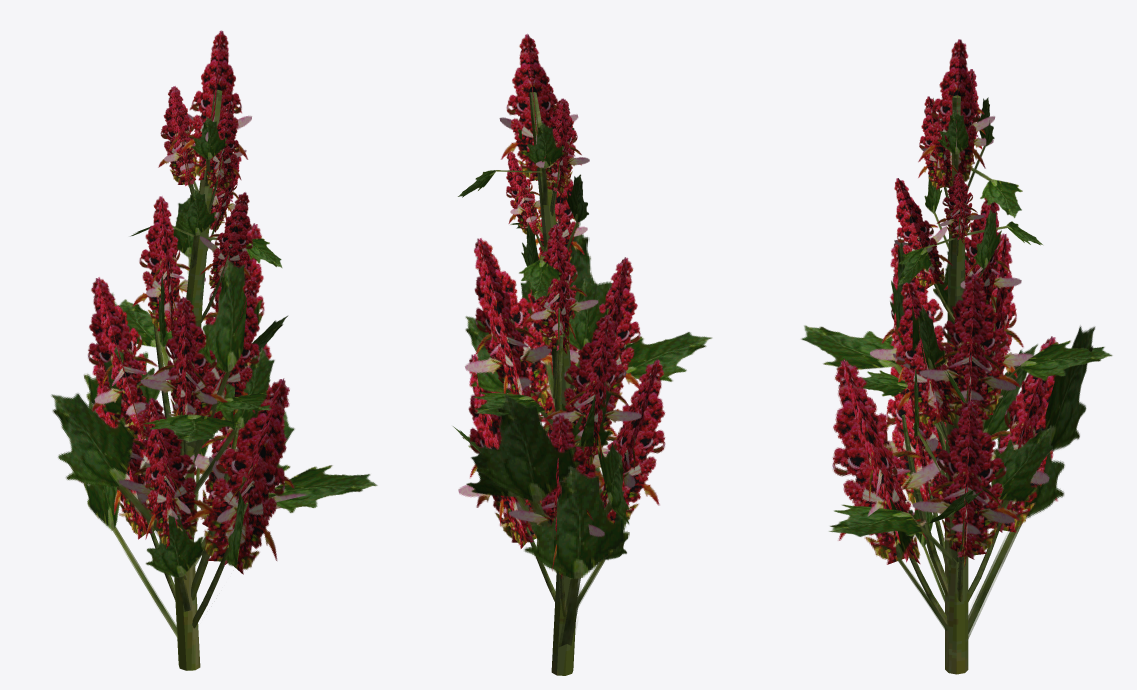
File: quinoa.gltf
3 views of the same model, side by side, from view 1: azimuth 30°, elevation 25°; view 2: azimuth 150°, elevation 25°; view 3: azimuth 270°, elevation 25° (orthographic). The views are drawn at different scales.
Visible parts, largest first — view 1: Quinoa; view 2: Quinoa; view 3: Quinoa.
Part boxes in pixels (bbox=[...]): Quinoa: bbox=[51, 30, 377, 670]; Quinoa: bbox=[452, 34, 712, 675]; Quinoa: bbox=[801, 39, 1112, 674].
Size of the model in its own units: 0.5629 by 1.17 by 0.5728.
Materials: 1 (1 with a texture image).
